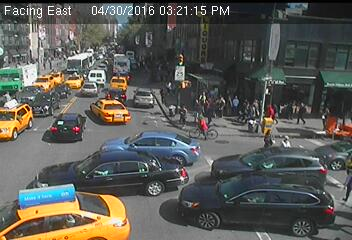neg: (227, 153, 248, 181), (192, 112, 212, 139), (31, 14, 48, 37), (94, 107, 111, 129), (68, 55, 84, 76), (61, 106, 77, 127), (211, 40, 227, 61), (83, 11, 98, 30), (94, 159, 108, 178), (172, 163, 186, 182), (129, 27, 143, 46), (258, 155, 271, 172), (140, 87, 153, 104), (100, 54, 113, 71), (7, 69, 19, 85), (38, 100, 50, 116), (61, 211, 73, 227), (28, 142, 39, 157), (162, 47, 173, 61), (3, 107, 13, 120), (21, 216, 31, 229), (41, 75, 49, 85)
pos: (238, 95, 257, 120), (199, 98, 217, 122), (245, 102, 262, 124), (261, 127, 277, 149), (212, 93, 228, 115), (295, 100, 311, 121), (227, 93, 243, 114), (175, 103, 191, 124), (264, 101, 278, 120), (162, 78, 176, 96), (280, 134, 293, 151), (158, 88, 168, 102)
